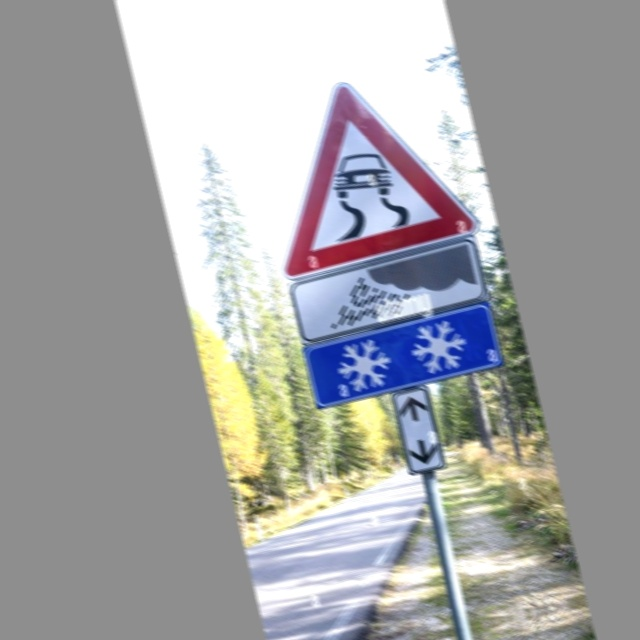Slippery_Road: (252, 64, 469, 270)
